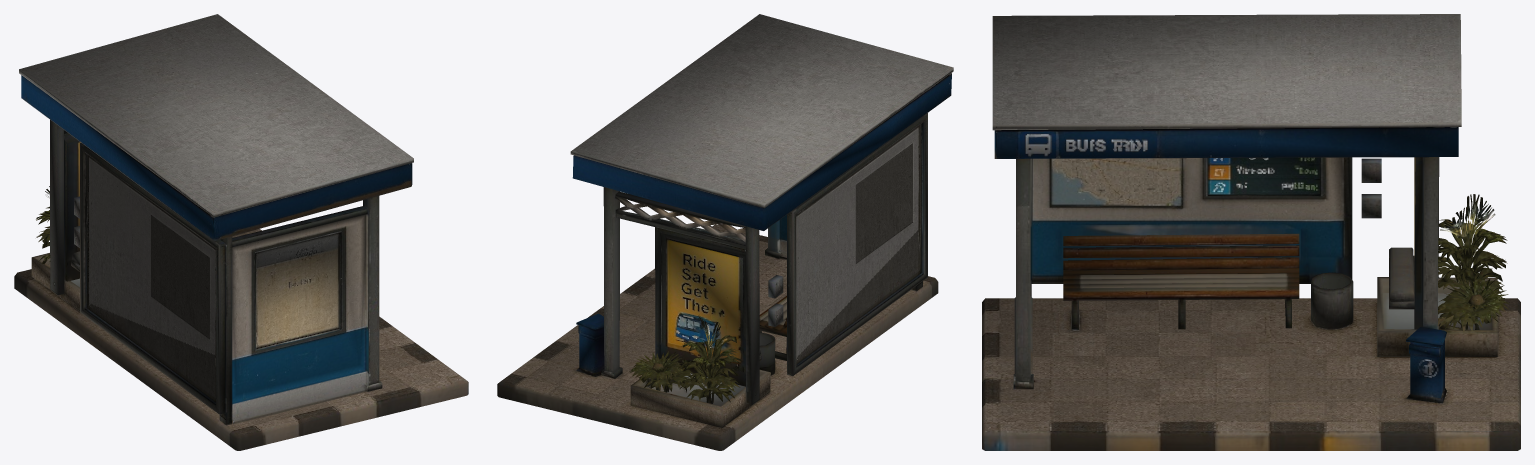
Rendered from bus+stop+shelter+3d+model.glb.
3 views of the same model, side by side, from view 1: azimuth 30°, elevation 25°; view 2: azimuth 150°, elevation 25°; view 3: azimuth 270°, elevation 25° (orthographic). The views are drawn at different scales.
Visible parts, largest first — view 1: tripo_node_dc74f8f4-acff-42c6-95ef-f192a59c154e; view 2: tripo_node_dc74f8f4-acff-42c6-95ef-f192a59c154e; view 3: tripo_node_dc74f8f4-acff-42c6-95ef-f192a59c154e.
Part boxes in pixels (x1,y1,x2,y2): tripo_node_dc74f8f4-acff-42c6-95ef-f192a59c154e: (14,14,468,450); tripo_node_dc74f8f4-acff-42c6-95ef-f192a59c154e: (497,14,953,450); tripo_node_dc74f8f4-acff-42c6-95ef-f192a59c154e: (982,14,1520,450).
Size of the model in its own units: 0.6465 by 0.6074 by 0.998.
1 material, 1 textured.
